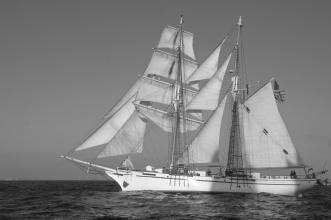fanchuan: (65, 18, 320, 189)
